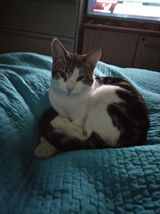cat: (33, 37, 154, 160)
